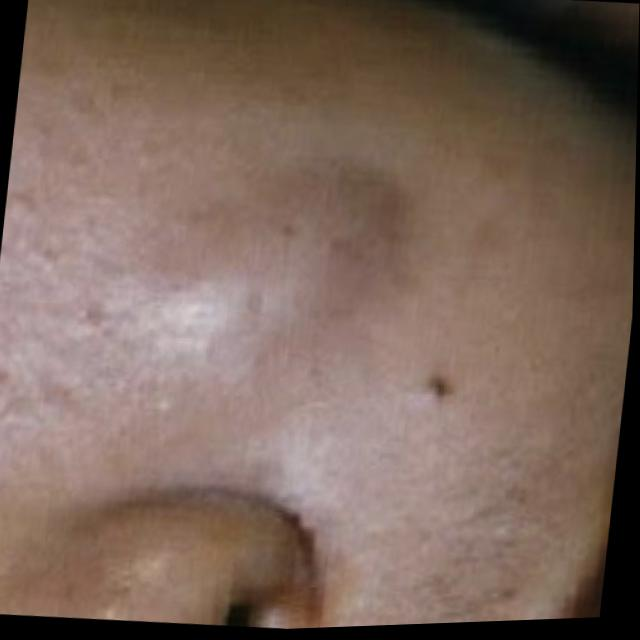nodule: (91, 135, 415, 398)
